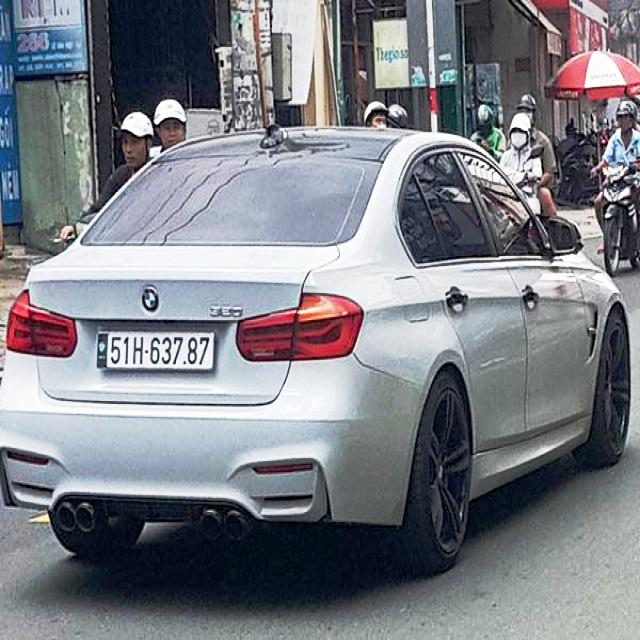license_plate: (96, 328, 213, 371)
